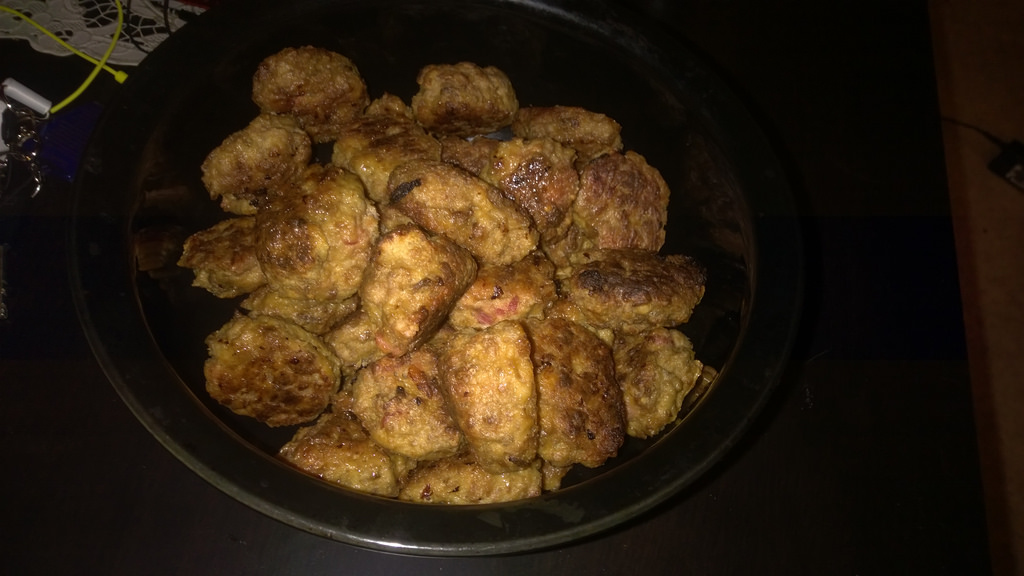meatballs: (241, 59, 671, 465)
